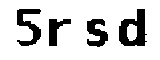5: (14, 6, 45, 47)
d: (115, 7, 151, 52)
r: (46, 17, 78, 51)
s: (81, 16, 113, 49)
